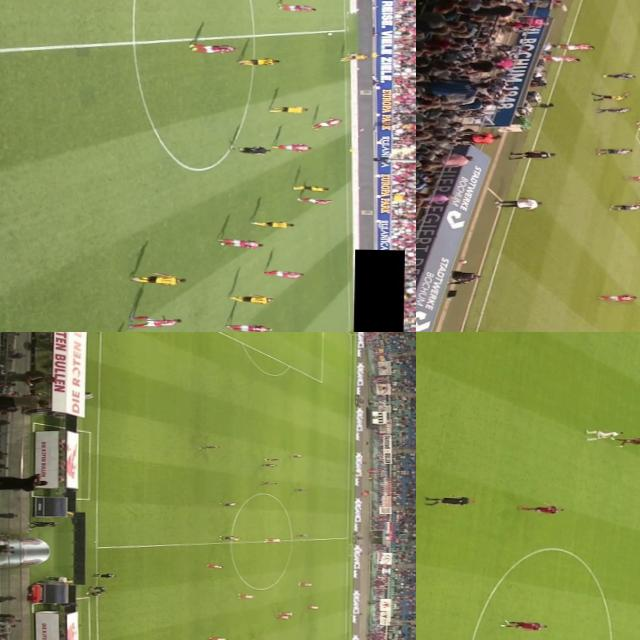ball: (320, 30, 336, 37), (563, 57, 573, 61), (260, 540, 266, 544)
player: (123, 316, 189, 331), (188, 40, 240, 55), (495, 616, 547, 630), (133, 274, 185, 286), (221, 321, 277, 332), (518, 504, 567, 516), (219, 238, 265, 250), (275, 0, 316, 13), (269, 140, 313, 152), (222, 294, 274, 304), (253, 217, 292, 230), (270, 102, 312, 114), (313, 116, 344, 131), (240, 55, 280, 66), (586, 430, 622, 442), (292, 183, 330, 194), (596, 292, 636, 302), (263, 270, 302, 280), (604, 70, 636, 82), (546, 54, 580, 64), (613, 435, 640, 446), (342, 52, 371, 62), (598, 105, 630, 114), (596, 148, 634, 155), (608, 203, 640, 211), (296, 198, 332, 205), (553, 44, 593, 49), (258, 480, 276, 486), (627, 173, 640, 181), (237, 594, 254, 600), (257, 463, 277, 468), (198, 445, 220, 449), (215, 536, 237, 540), (217, 502, 238, 506), (288, 454, 304, 459), (204, 637, 228, 640), (295, 582, 313, 586), (262, 538, 280, 542), (205, 564, 222, 568), (292, 487, 308, 491), (296, 534, 310, 538), (274, 615, 288, 619), (278, 612, 292, 615), (263, 458, 280, 460), (306, 606, 320, 608), (255, 639, 270, 640)
